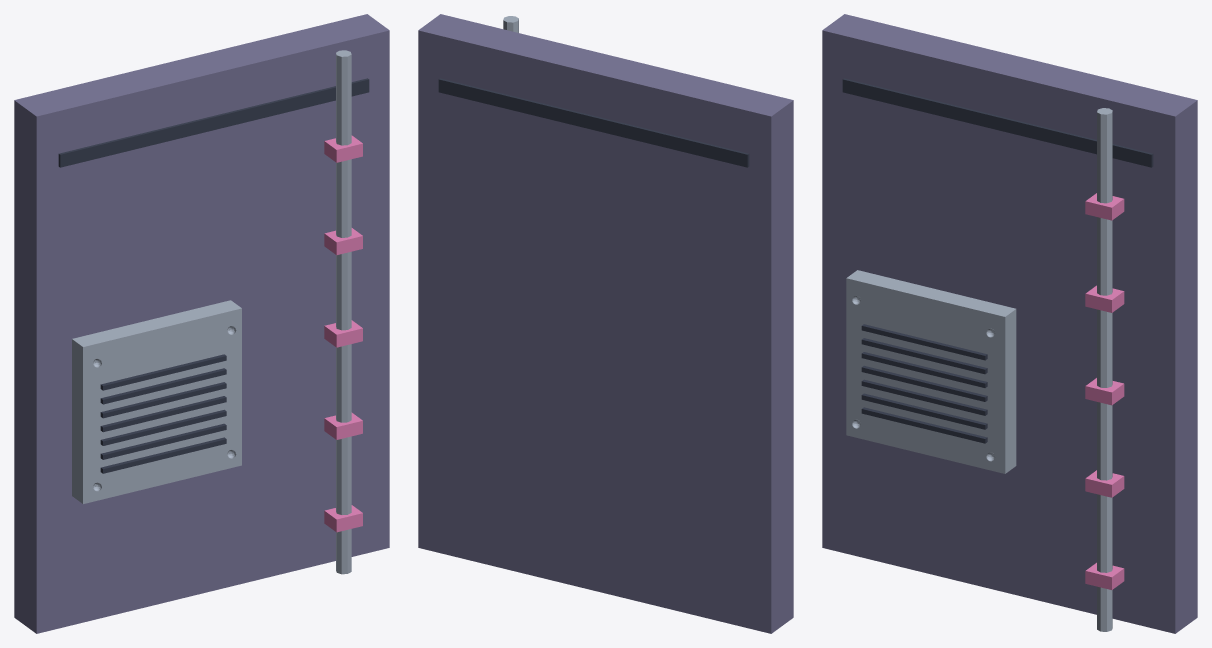
File: neon-dispatch-service-alley-wall__168.glb
3 renders of one model, left to right at view 1: azimuth 30°, elevation 25°; view 2: azimuth 150°, elevation 25°; view 3: azimuth 330°, elevation 25°, orthographic.
Parts seen in each view (by area): view 1: shell, metal, dark, accent; view 2: shell, dark; view 3: shell, metal, dark, accent.
Boxes of the visible parts, bbox=[...] form: shell: bbox=[14, 14, 389, 633]; metal: bbox=[72, 50, 351, 574]; dark: bbox=[58, 78, 369, 473]; accent: bbox=[324, 135, 362, 532]; shell: bbox=[418, 14, 793, 633]; dark: bbox=[438, 78, 749, 167]; shell: bbox=[822, 14, 1197, 633]; metal: bbox=[846, 108, 1112, 631]; dark: bbox=[842, 78, 1153, 443]; accent: bbox=[1085, 193, 1124, 589].
Bounding box in the file's own units: 2 × 2.8 × 0.415.
